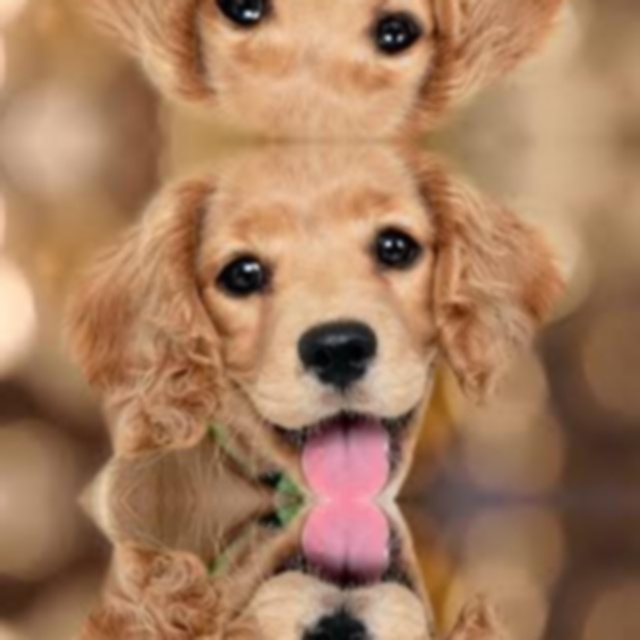dog: (77, 140, 539, 500), (77, 499, 540, 640), (77, 0, 540, 140)
